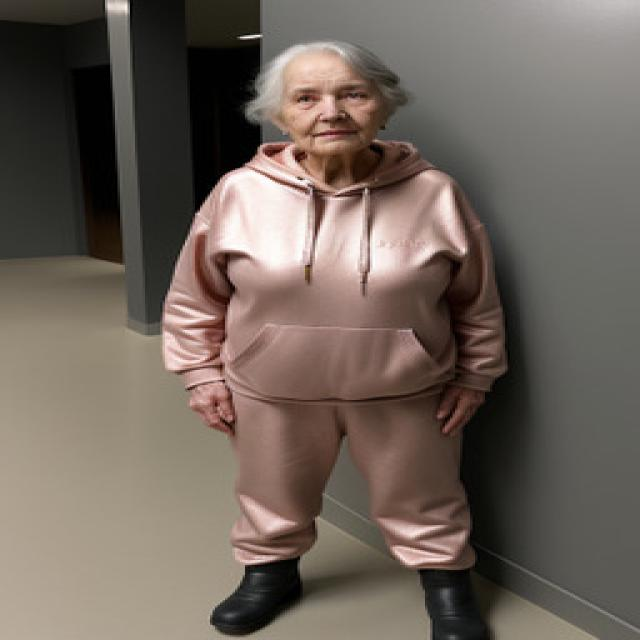Ai human 2: (142, 31, 535, 640)
